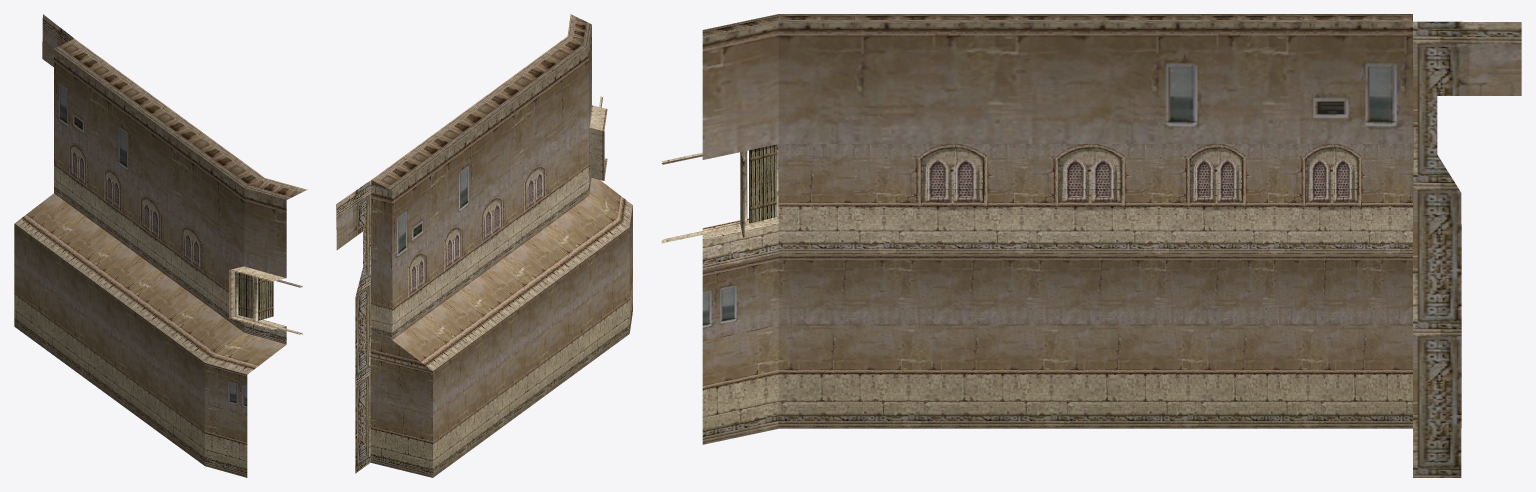
Rendered from M2Zone2_MedaevalWall_A.glb.
3 views of the same model, side by side, from view 1: azimuth 30°, elevation 25°; view 2: azimuth 150°, elevation 25°; view 3: azimuth 270°, elevation 25° (orthographic). The views are drawn at different scales.
Parts seen in each view (by area): view 1: M2ZONE2_MEDAEVALWALL_A; view 2: M2ZONE2_MEDAEVALWALL_A; view 3: M2ZONE2_MEDAEVALWALL_A.
Part boxes in pixels (x1=…): M2ZONE2_MEDAEVALWALL_A: x1=14, y1=14, x2=307, y2=477; M2ZONE2_MEDAEVALWALL_A: x1=336, y1=14, x2=632, y2=477; M2ZONE2_MEDAEVALWALL_A: x1=661, y1=14, x2=1521, y2=477.
Bounding box in the file's own units: 4.05 × 13.27 × 22.69.
Materials: 6 (6 with a texture image).
